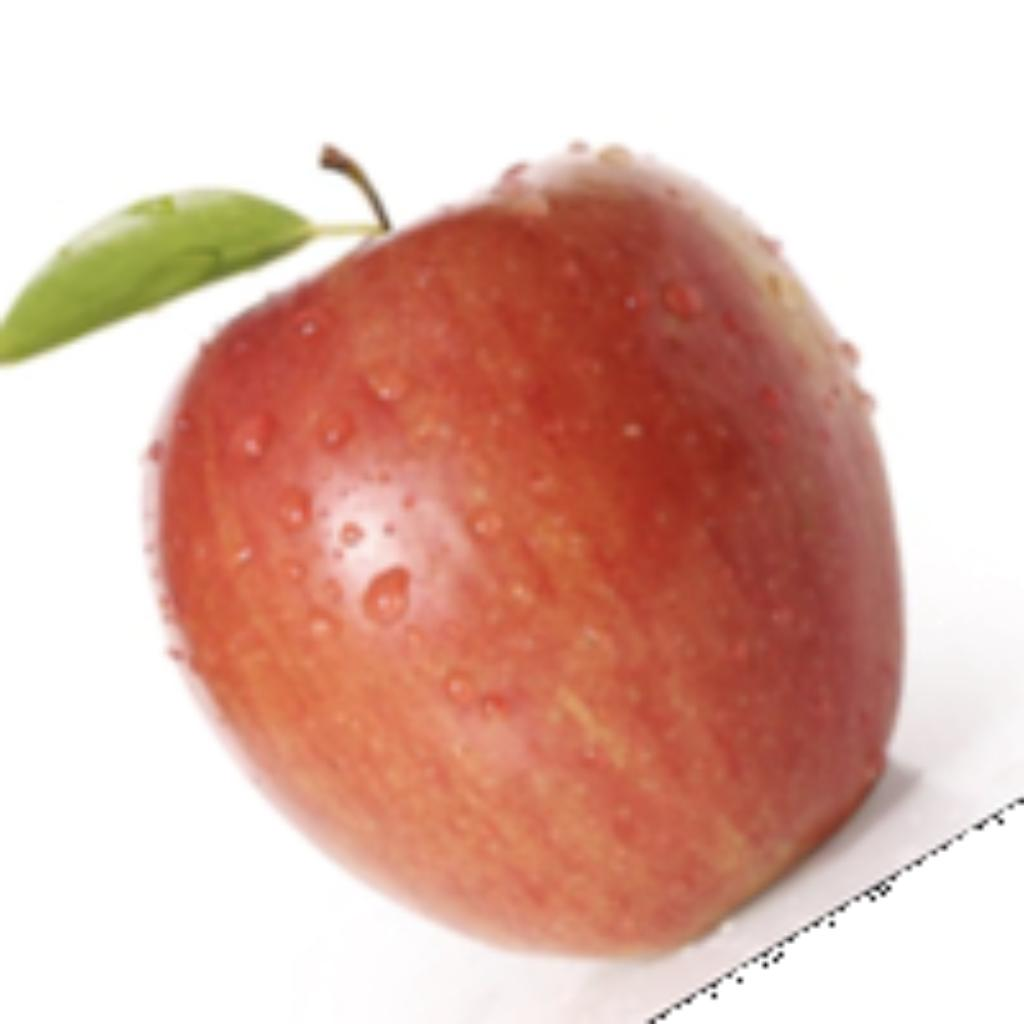apple: (0, 133, 1004, 1019)
